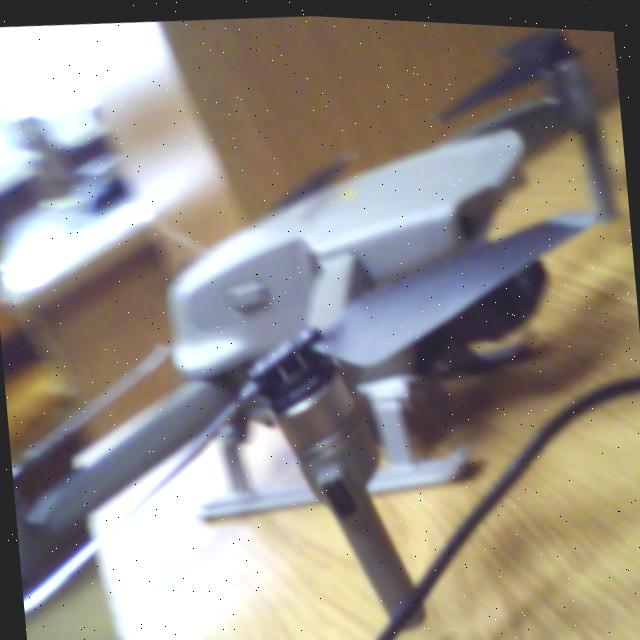drone: (0, 25, 640, 621)
